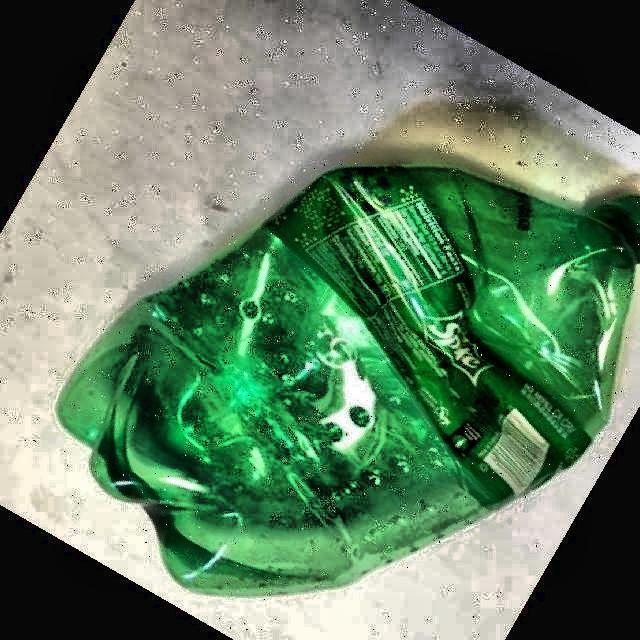plastic: (59, 169, 640, 593)
